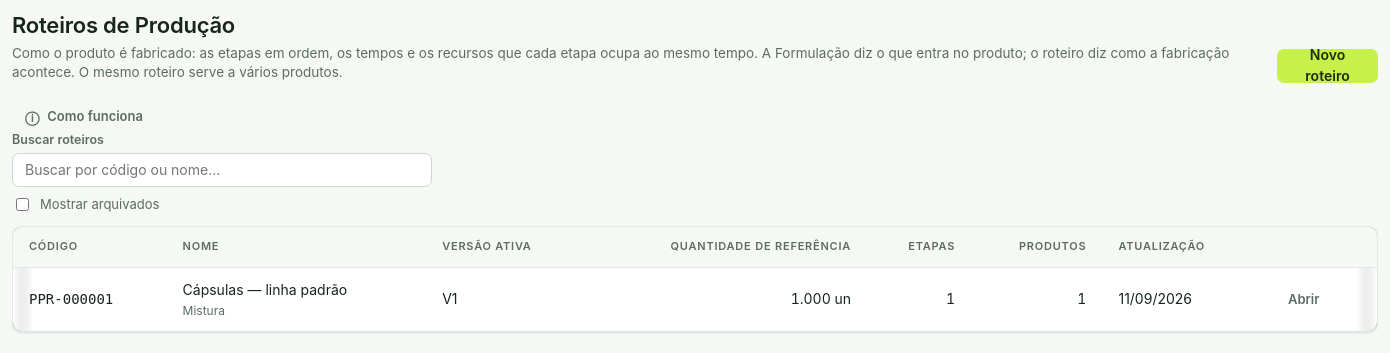
Test case: Roteiros de Produção — lista e arquivados › o recorte padrão não pede arquivados; "Mostrar arquivados" pede só eles e marca a linha
Click the checkbox labelled "Mostrar arquivados".
click(22, 204)  # box x1=16 y1=198 x2=29 y2=211
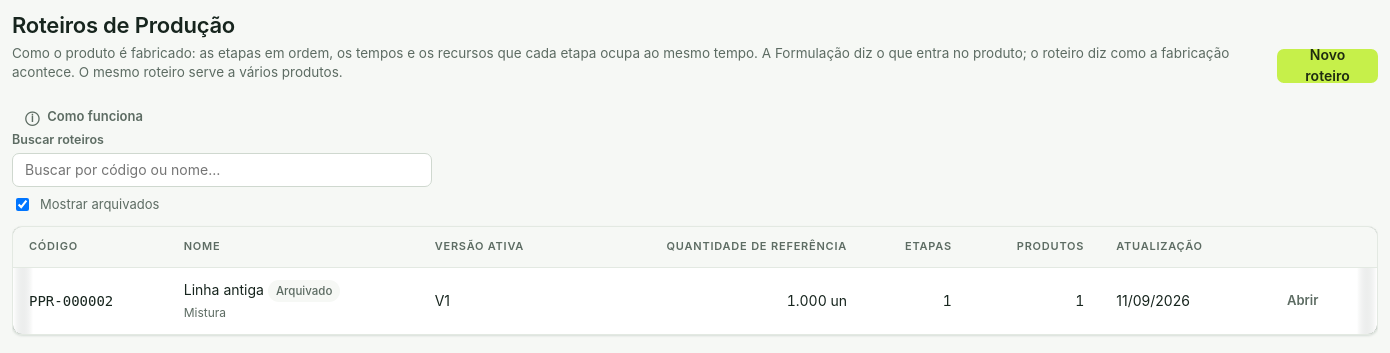
Expected: the text "Arquivado" is shown, x1=268 y1=280 x2=340 y2=302
Expected: the text "Cápsulas — linha padrão" is gone
